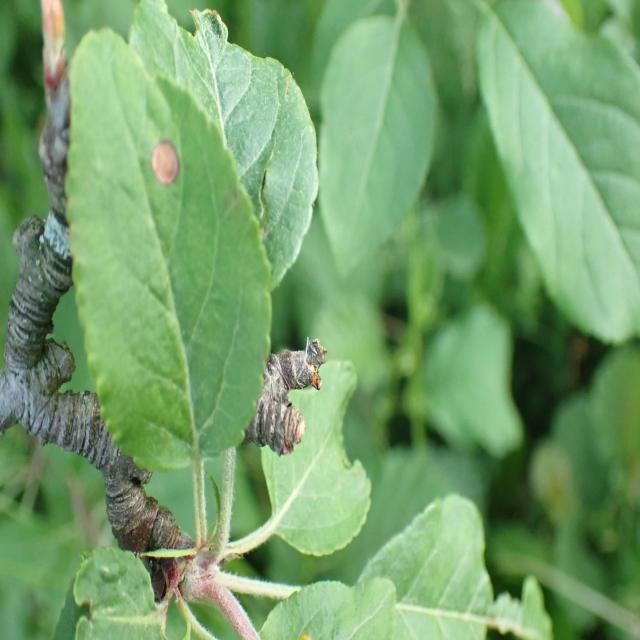Black Rot: (144, 107, 191, 210)
